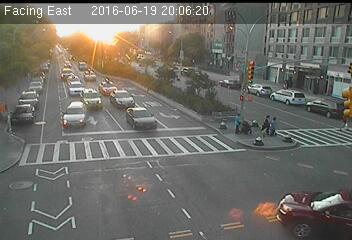neg: (161, 154, 193, 197), (303, 120, 332, 158), (35, 163, 64, 201), (208, 192, 236, 230), (85, 94, 112, 130), (130, 115, 153, 146), (249, 188, 272, 219), (22, 132, 45, 161), (27, 82, 48, 110), (88, 145, 109, 173), (290, 185, 311, 212), (203, 51, 221, 75), (173, 75, 191, 99), (122, 56, 140, 79), (307, 41, 323, 62), (256, 66, 270, 85), (228, 31, 242, 50), (118, 177, 132, 195), (288, 134, 301, 151), (99, 32, 112, 49), (262, 30, 275, 47), (300, 90, 312, 107), (253, 135, 265, 151)
pos: (227, 111, 246, 135), (272, 115, 286, 134), (259, 112, 273, 131)
